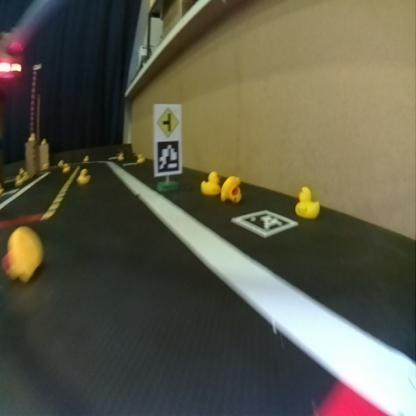Duckie: (2, 225, 42, 282), (295, 186, 320, 218), (220, 174, 242, 200), (201, 172, 219, 194), (77, 168, 89, 184), (136, 153, 145, 162), (62, 164, 68, 172), (28, 133, 34, 141), (116, 152, 122, 160)
Intersection sign: (156, 105, 178, 135)
QR code: (231, 209, 294, 236), (156, 140, 179, 172)
